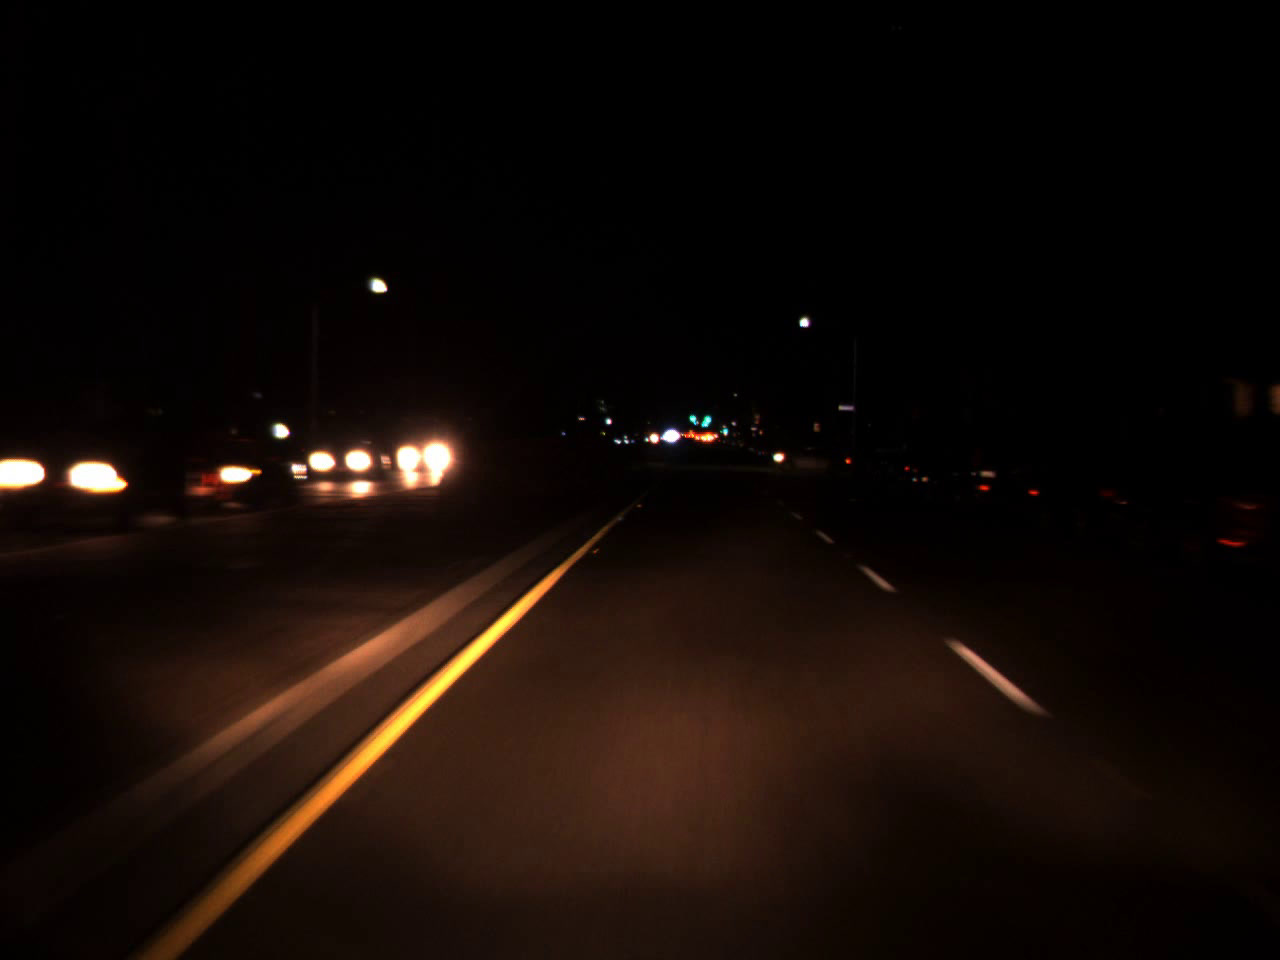go: (698, 403, 712, 430), (686, 405, 696, 423), (721, 422, 728, 434)
